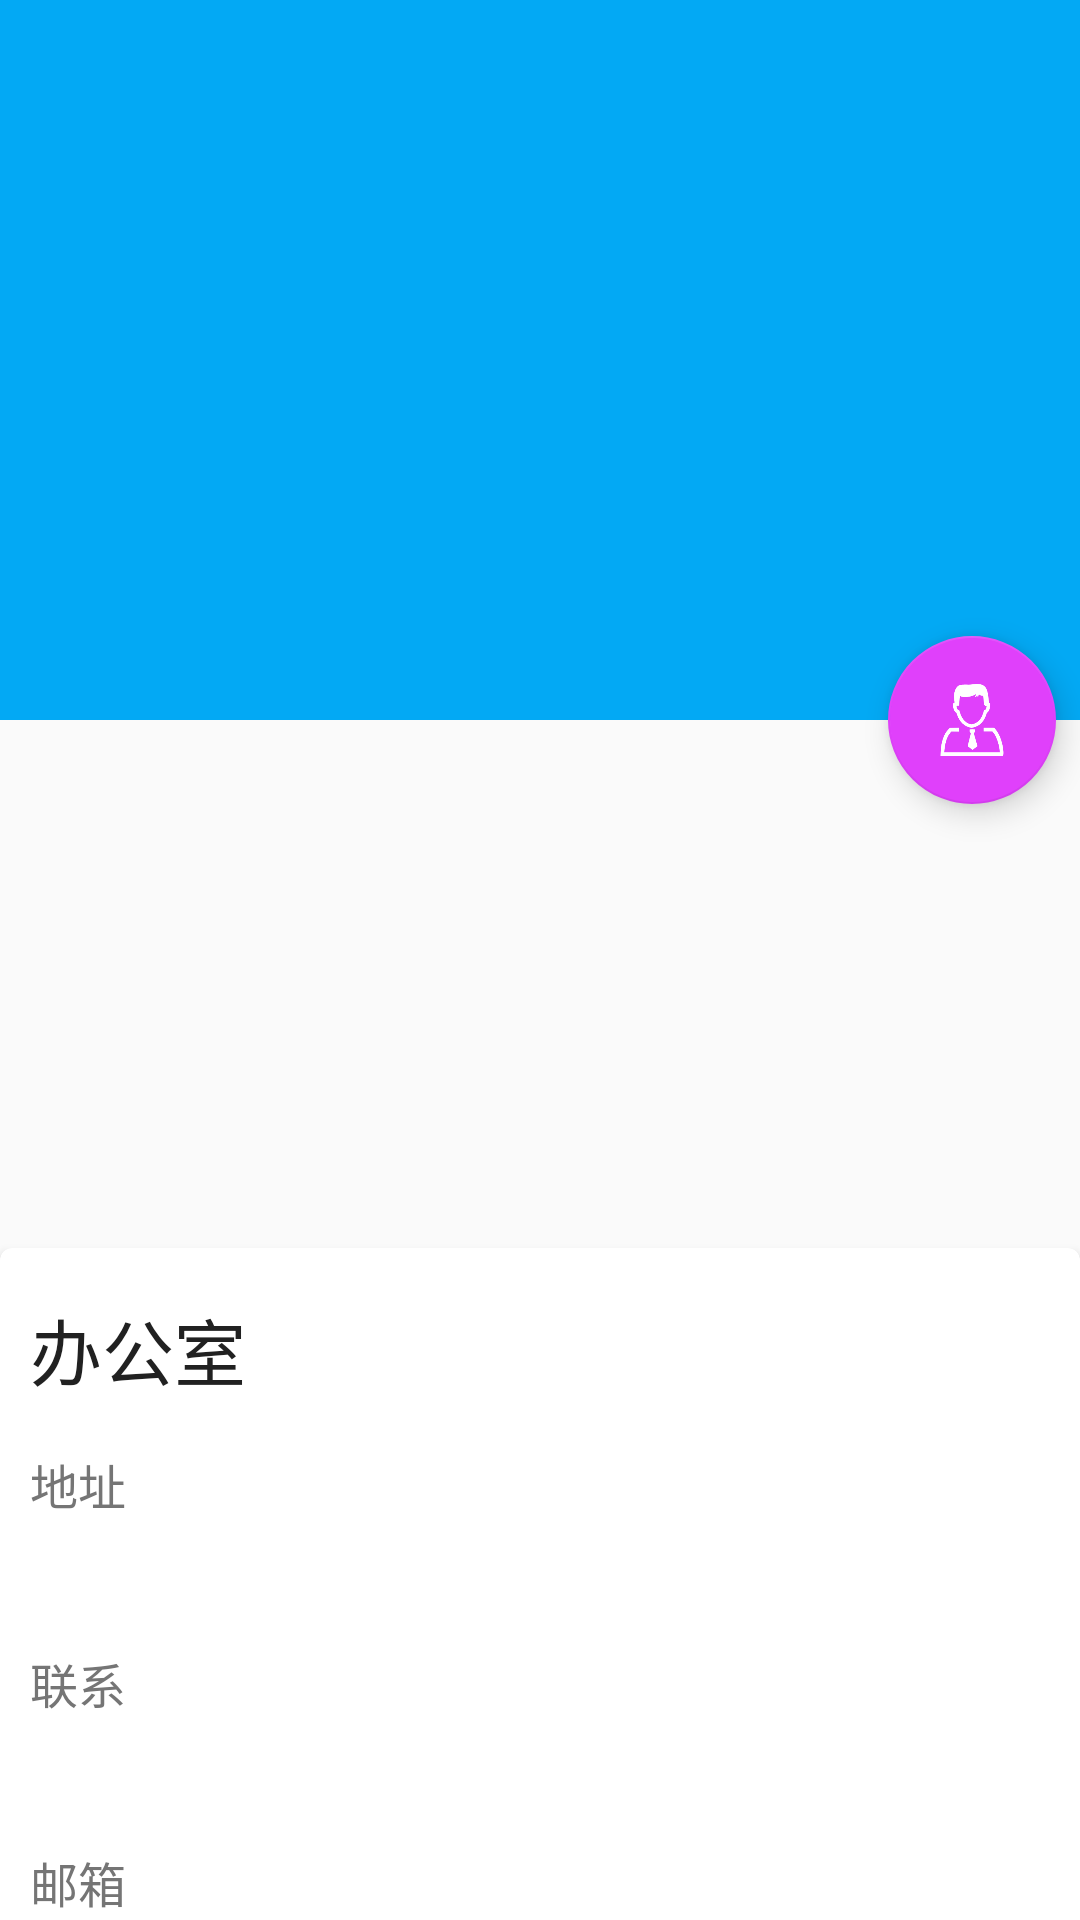

Icons on this 1080px×1920px Android screen, each with the point to tap as [x,y]:
teacher: [972,720]
